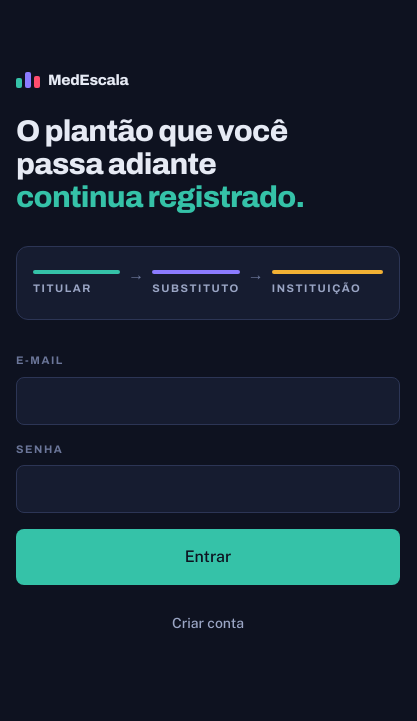
sem sessão › leva ao cadastro, com os campos de médico e de instituição
This screenshot has width=417, height=721.
Step 1. Click the button "Criar conta" → (208, 623), box [16,601,400,645]
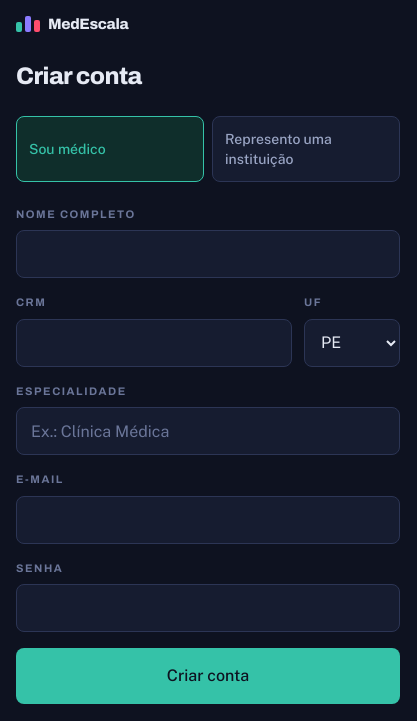
Expected: the field labelled "CRM" is shown, [16,318,292,366]
Step 2. Click the radio button labelled "Represento uma instituição" → (306, 148), box [212,116,400,182]
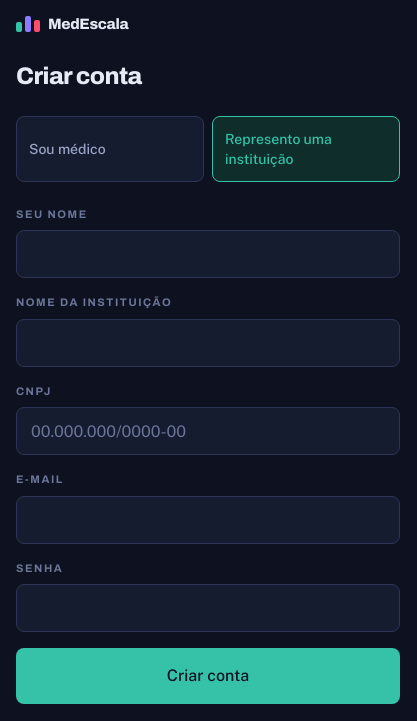
Expected: the field labelled "CNPJ" is shown, [16,407,400,455]
